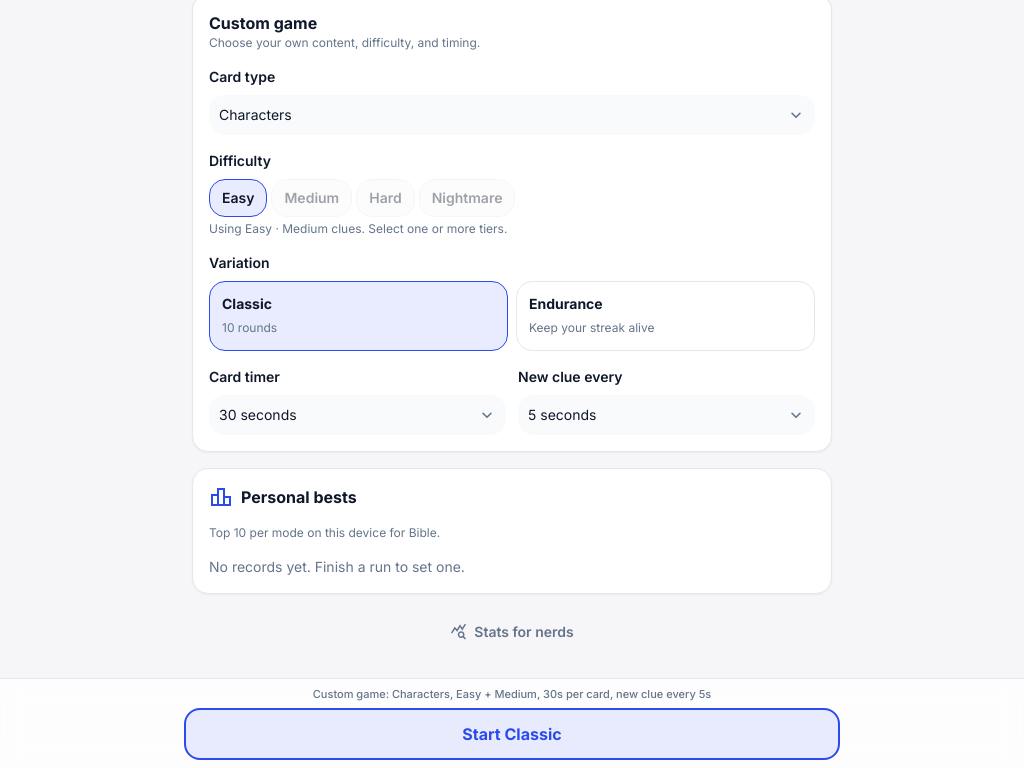
Test: SoloSetup › pins the start button with a summary of the custom game it will start
(page scrolled)
expect the button "Start Classic" is enabled: met, box [184, 708, 840, 760]
expect the number of buttons "Start Classic" is 1: met, box [184, 708, 840, 760]
Select "45 seconds" in the dropdown labelled "Card timer" at (358, 415), box [209, 395, 506, 435]
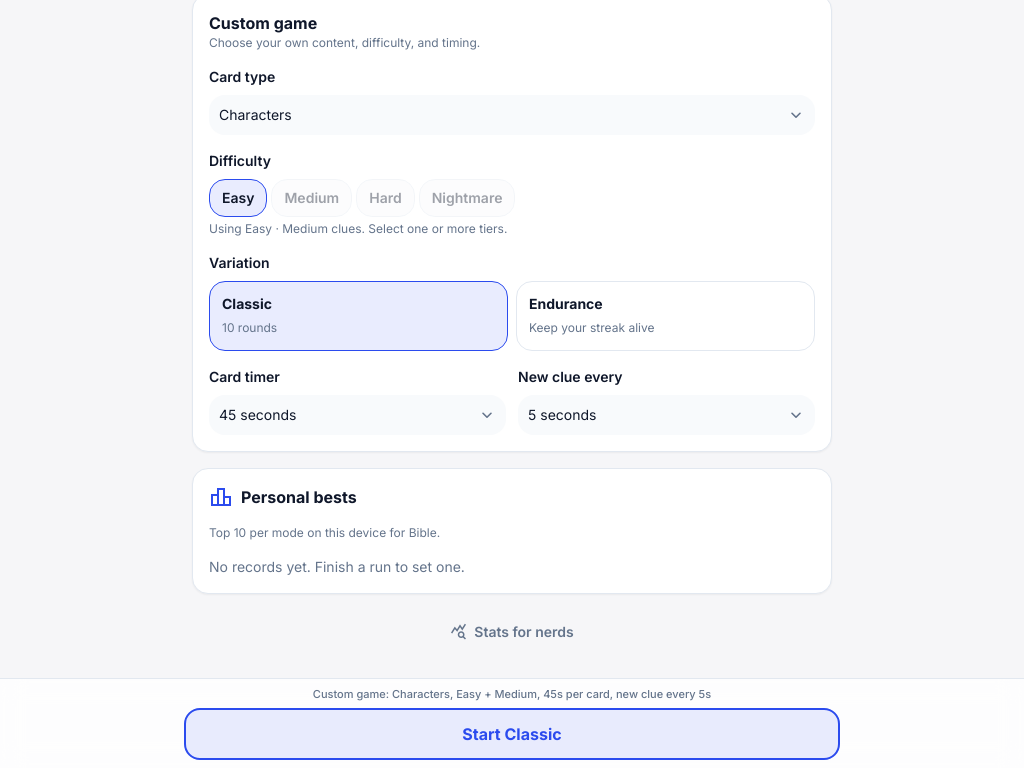
Select "10 seconds" in the dropdown labelled "New clue every" at (666, 415), box [518, 395, 815, 435]
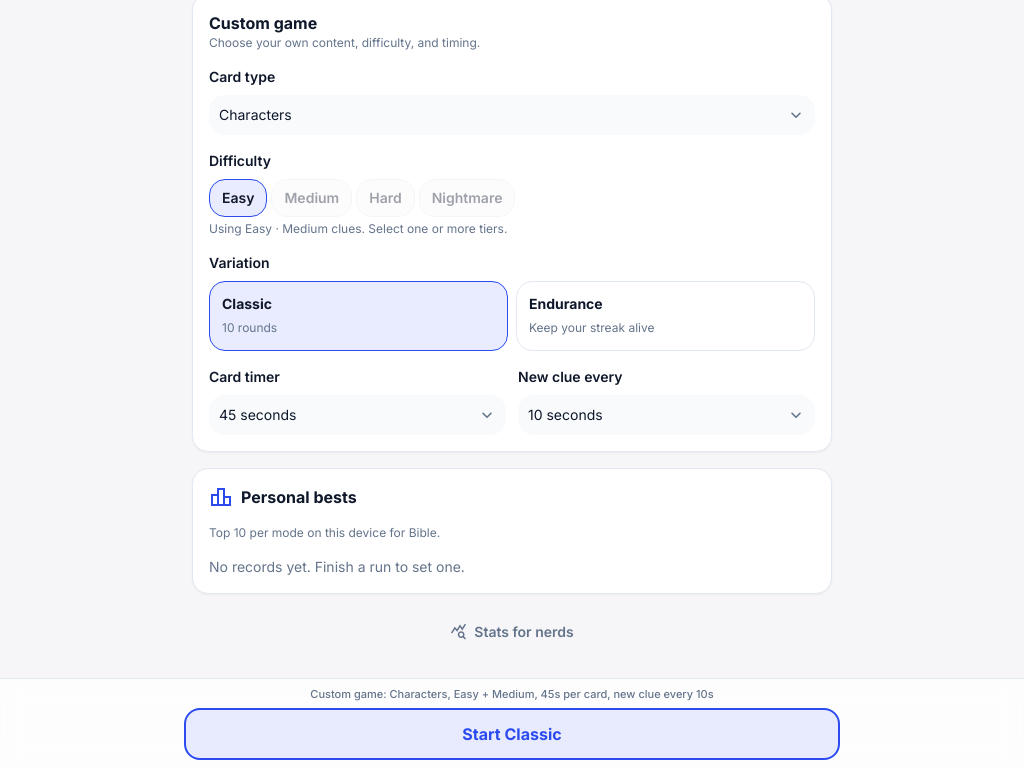
expect the text "Custom game: " shows ", 45s per card, new clue every 10s": met, box [310, 687, 714, 701]
